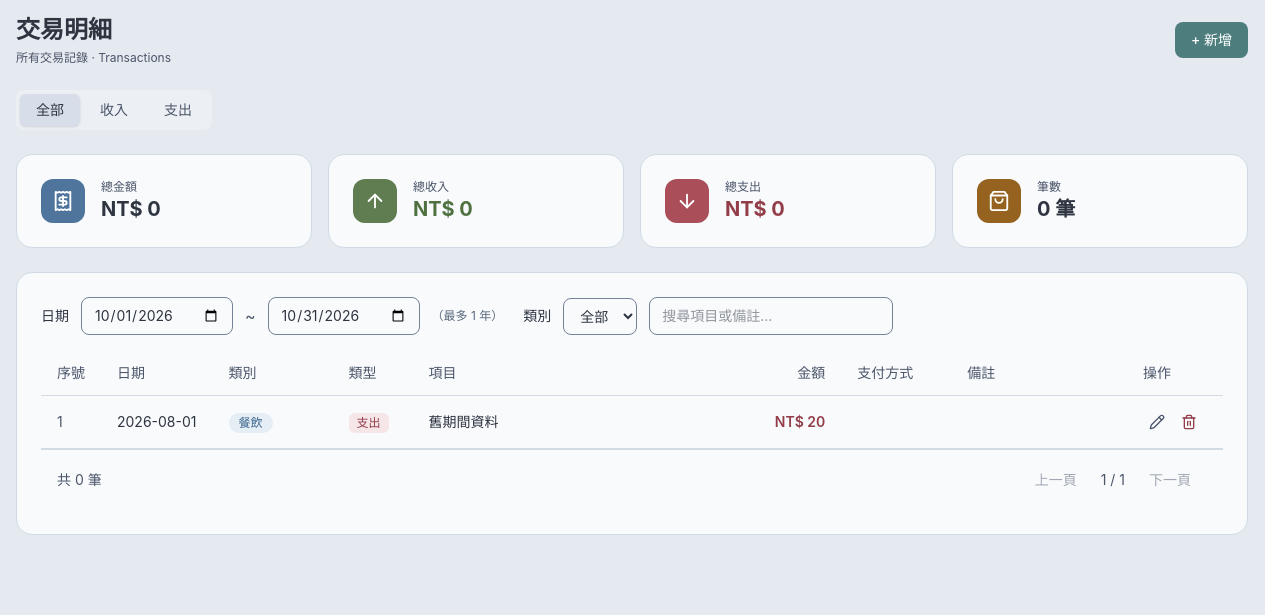
Test: financial page query identities › clears transaction rows immediately when the date query identity changes
Type "2026-01-01" into the 1st date field at (157, 316), box left=81, top=297, right=233, bottom=335
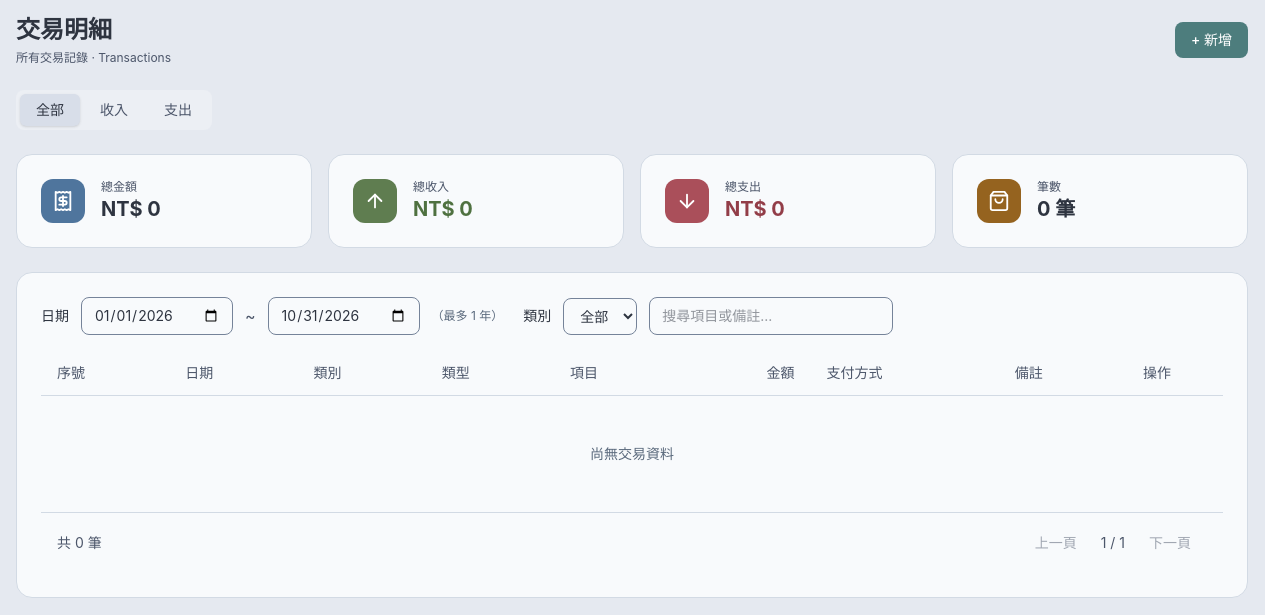
Check: the text "舊期間資料" is gone
